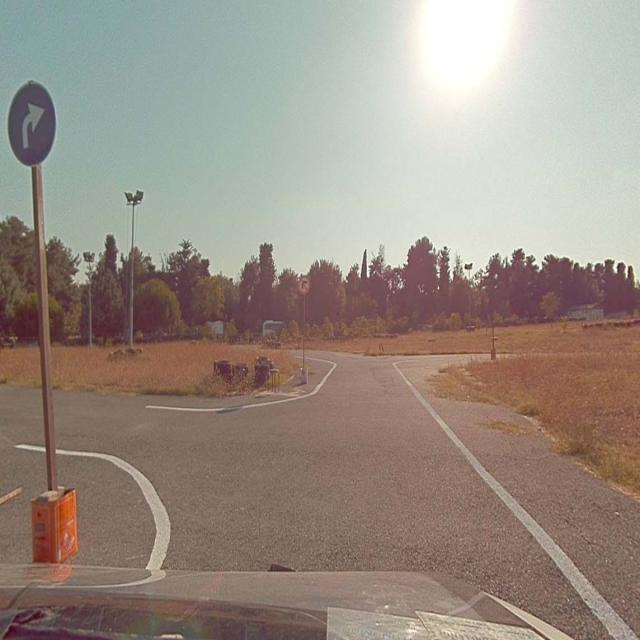sag: (6, 82, 56, 162)
sagadonulmez: (299, 274, 310, 294)
